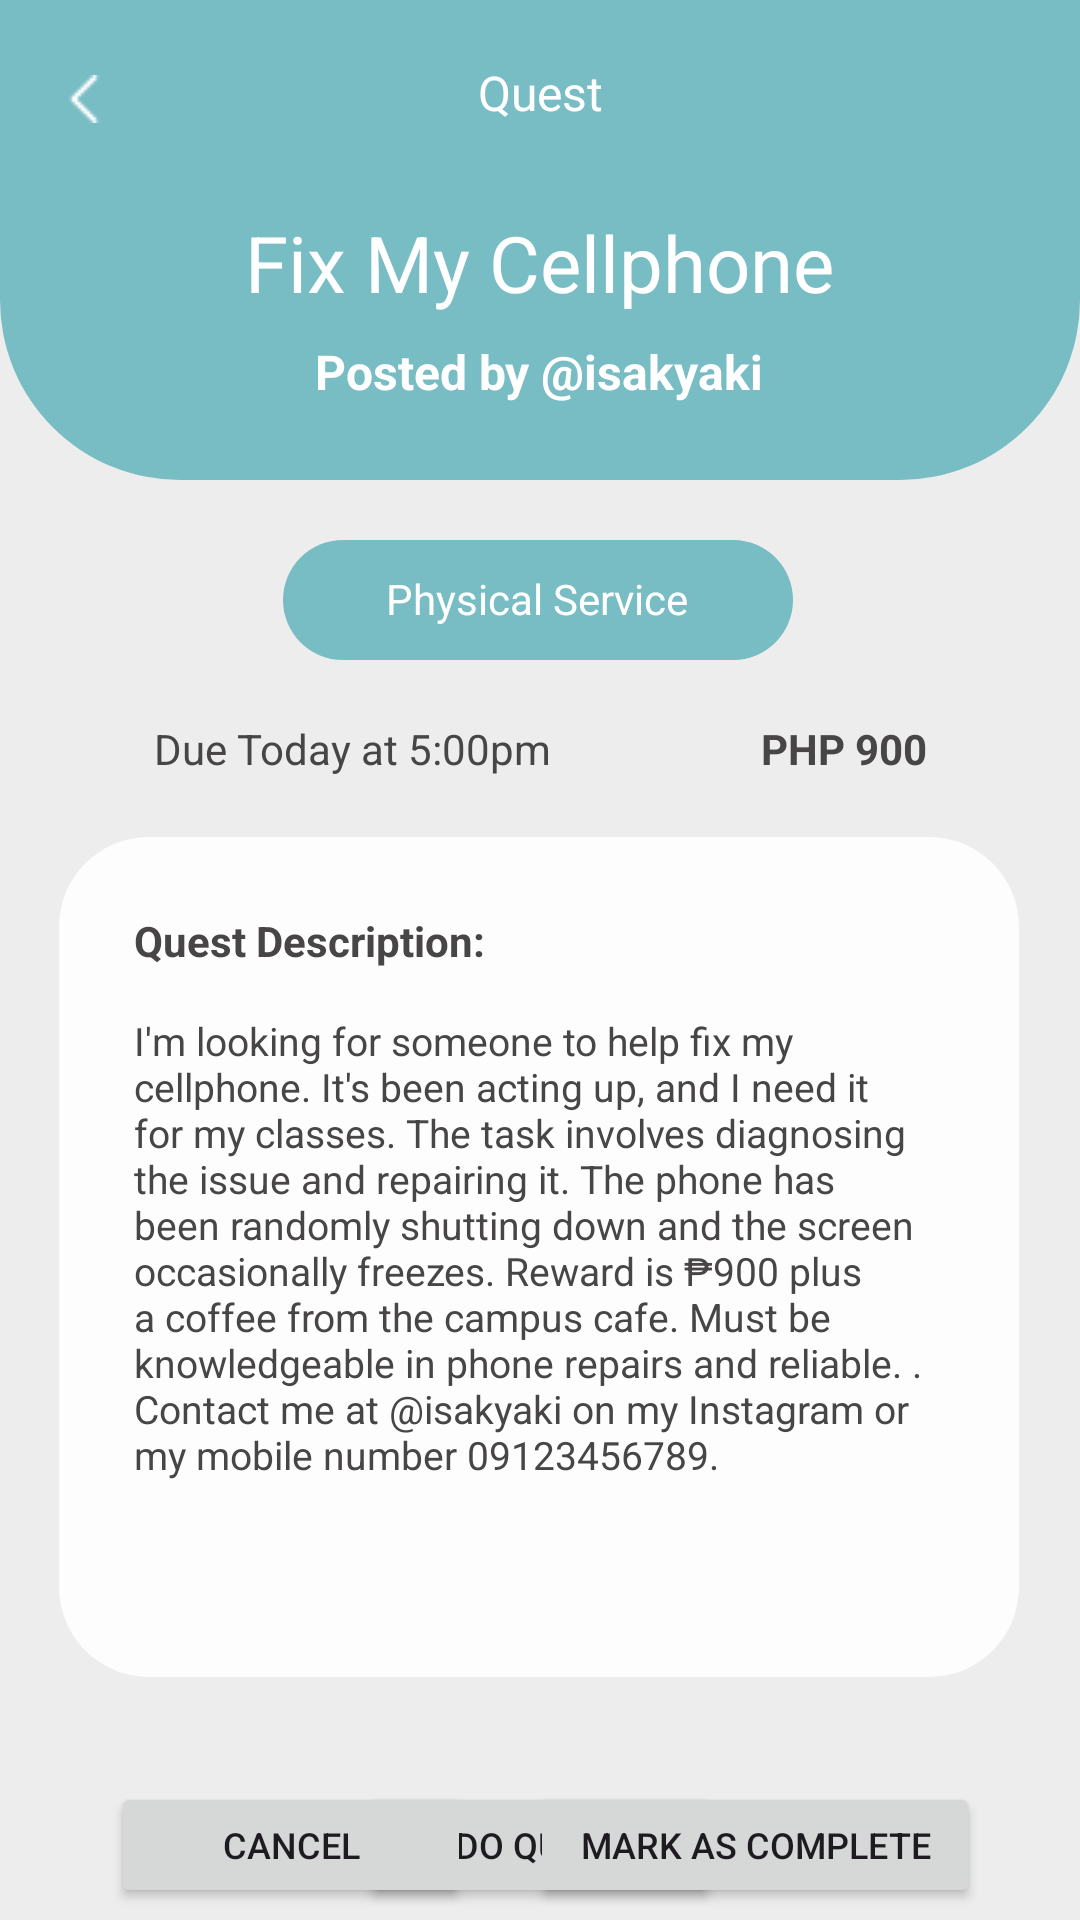

Icon bounding boxes for this 1080w x 1920h phone screenshot, format [left=x1, top=y1, right=x2, bottom=y2]:
back: [left=71, top=75, right=98, bottom=123]
